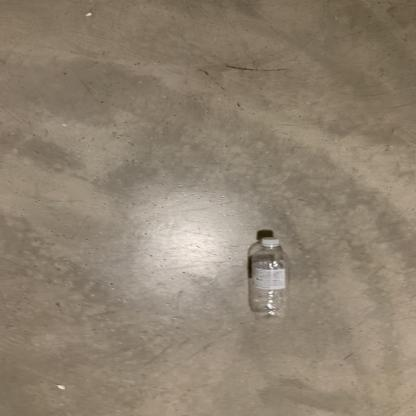trash: (246, 235, 292, 326)
